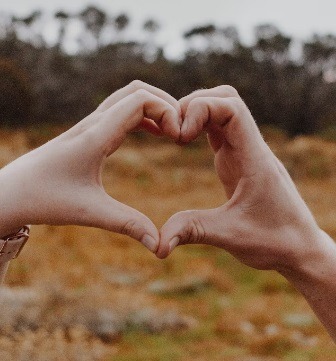heart: (2, 78, 329, 272)
